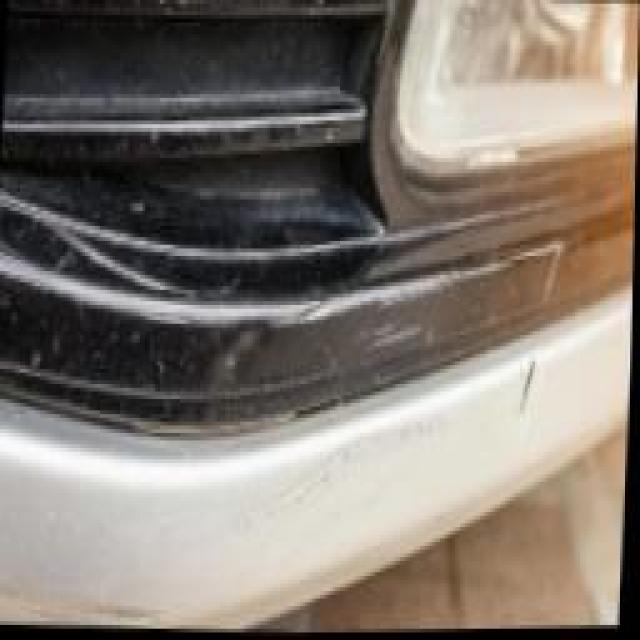Bumper: (218, 207, 599, 571)
